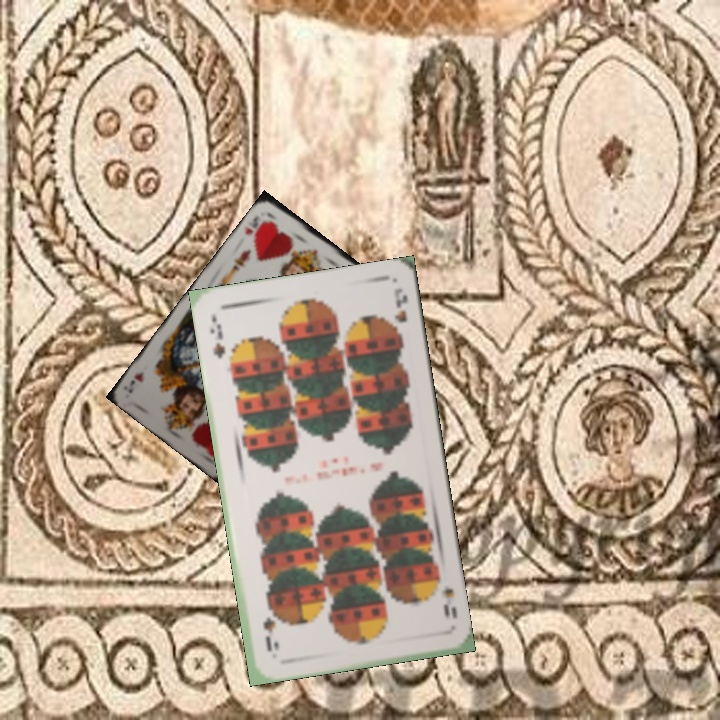HK: (241, 211, 270, 239)
S9: (205, 320, 228, 361), (437, 581, 460, 621)
